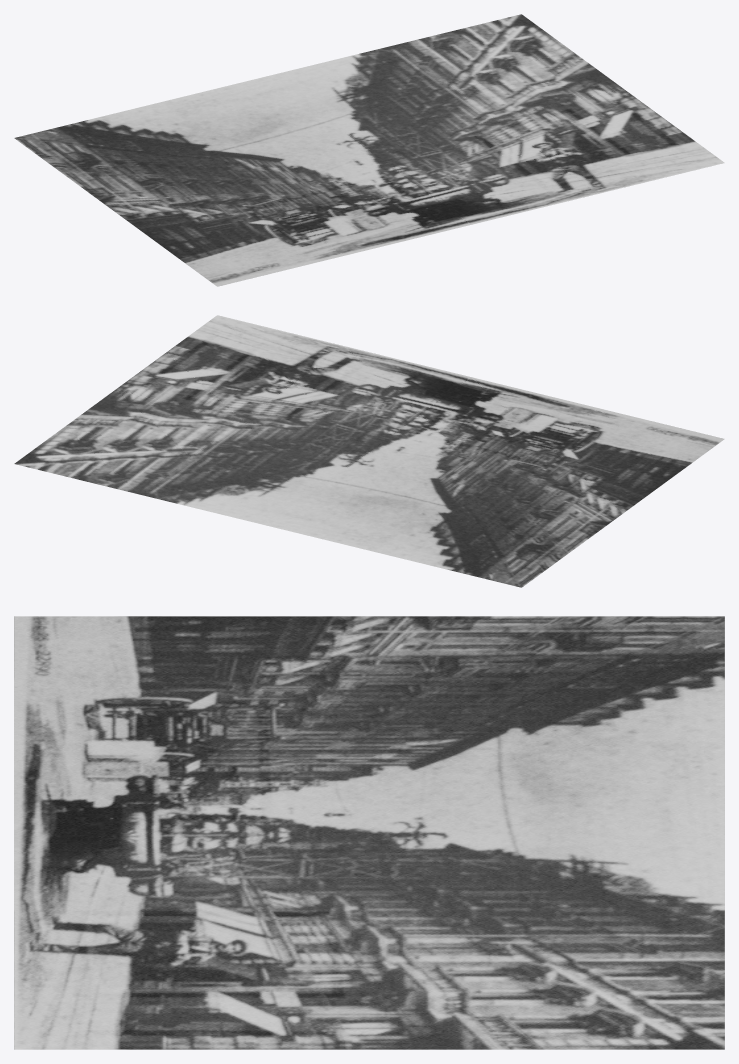
File: FONTANELLA.obj
3 views of the same model, one above another, from view 1: azimuth 30°, elevation 25°; view 2: azimuth 150°, elevation 25°; view 3: azimuth 270°, elevation 25° (orthographic). The views are drawn at different scales.
Parts seen in each view (by area): view 1: Plane001; view 2: Plane001; view 3: Plane001.
Part boxes in pixels (box(x1,y1,x2,y2)): Plane001: box(14, 14, 724, 286); Plane001: box(14, 315, 724, 587); Plane001: box(14, 616, 724, 1049).
Size of the model in its own units: 306 by 0 by 212.
1 material, 1 textured.
